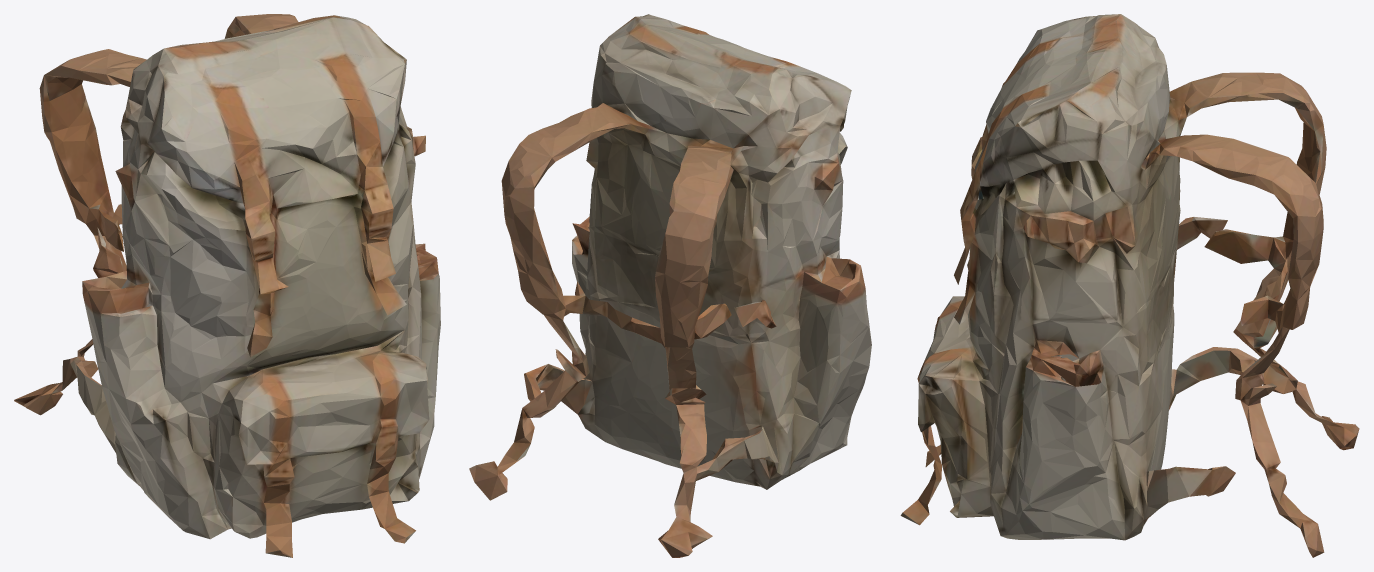
File: loot_drop.glb
The picture shows the model from 3 angles, left to right: view 1: azimuth 30°, elevation 25°; view 2: azimuth 150°, elevation 25°; view 3: azimuth 270°, elevation 25°; orthographic projection. The views are drawn at different scales.
Visible parts, largest first — view 1: loot_drop_tex; view 2: loot_drop_tex; view 3: loot_drop_tex.
Boxes of the visible parts, x1,y1,x2,y2 form: loot_drop_tex: (14, 14, 440, 557); loot_drop_tex: (469, 14, 871, 557); loot_drop_tex: (900, 14, 1359, 557).
Bounding box in the file's own units: 0.4899 × 0.6449 × 0.6.
1 material, 1 textured.
